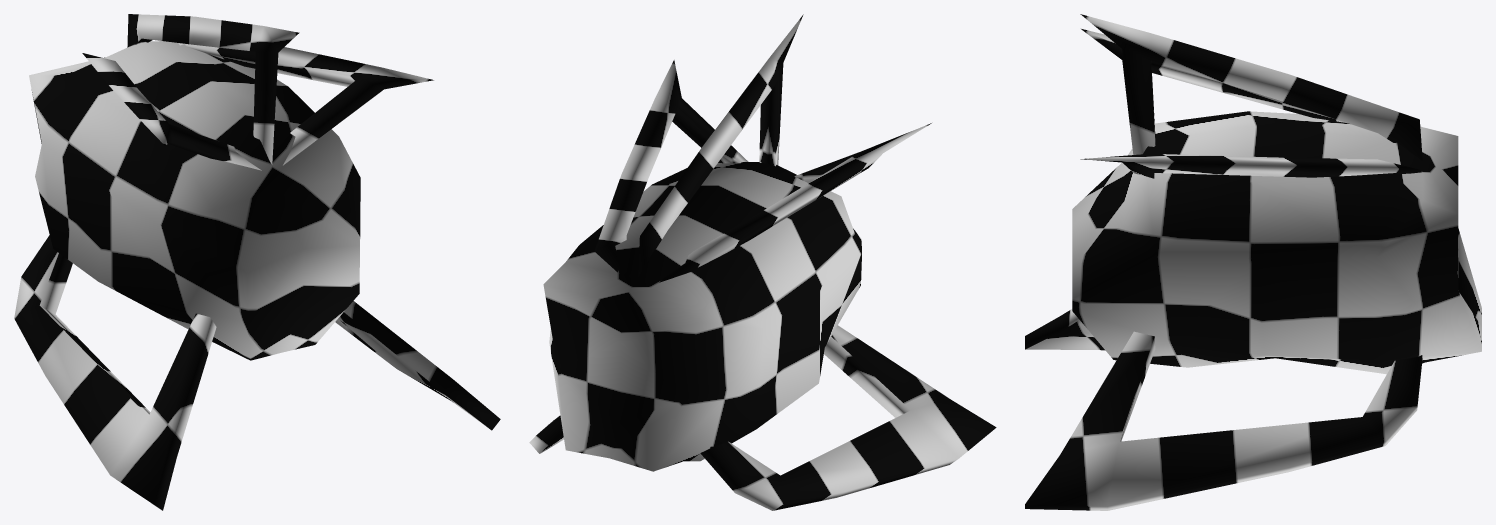
The model's file is drone_reaper.obj.
3 views of the same model, side by side, from view 1: azimuth 30°, elevation 25°; view 2: azimuth 150°, elevation 25°; view 3: azimuth 270°, elevation 25° (orthographic). The views are drawn at different scales.
Parts seen in each view (by area): view 1: Object005; view 2: Object005; view 3: Object005.
Boxes of the visible parts, x1=… form: Object005: x1=14, y1=14, x2=500, y2=510; Object005: x1=529, y1=14, x2=996, y2=510; Object005: x1=1025, y1=14, x2=1481, y2=510.
Size of the model in its own units: 22.36 by 25.47 by 25.31.
1 material, 1 textured.
